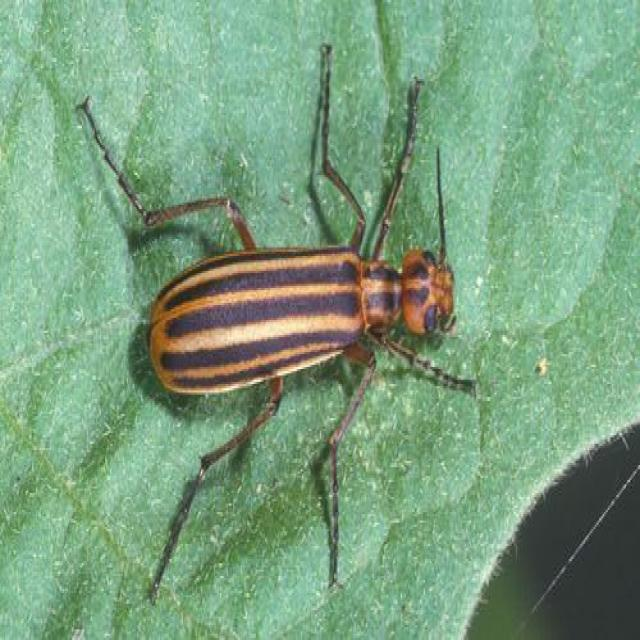BlisterBeetle-Adult-: (69, 55, 488, 591)
